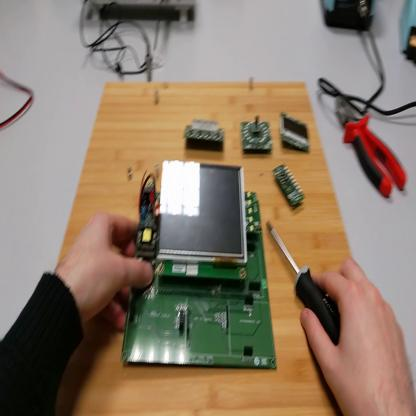hand: (300, 261, 416, 415), (60, 208, 155, 330)
low voltage board: (122, 158, 276, 374)
oscilloscope: (92, 1, 193, 22)
oscilloscope probe tip: (144, 33, 155, 84)
pliers: (336, 95, 408, 202)
screwdriver-: (266, 219, 344, 347)
welder station: (321, 1, 377, 33), (401, 3, 416, 65)
working area: (56, 78, 352, 416)
